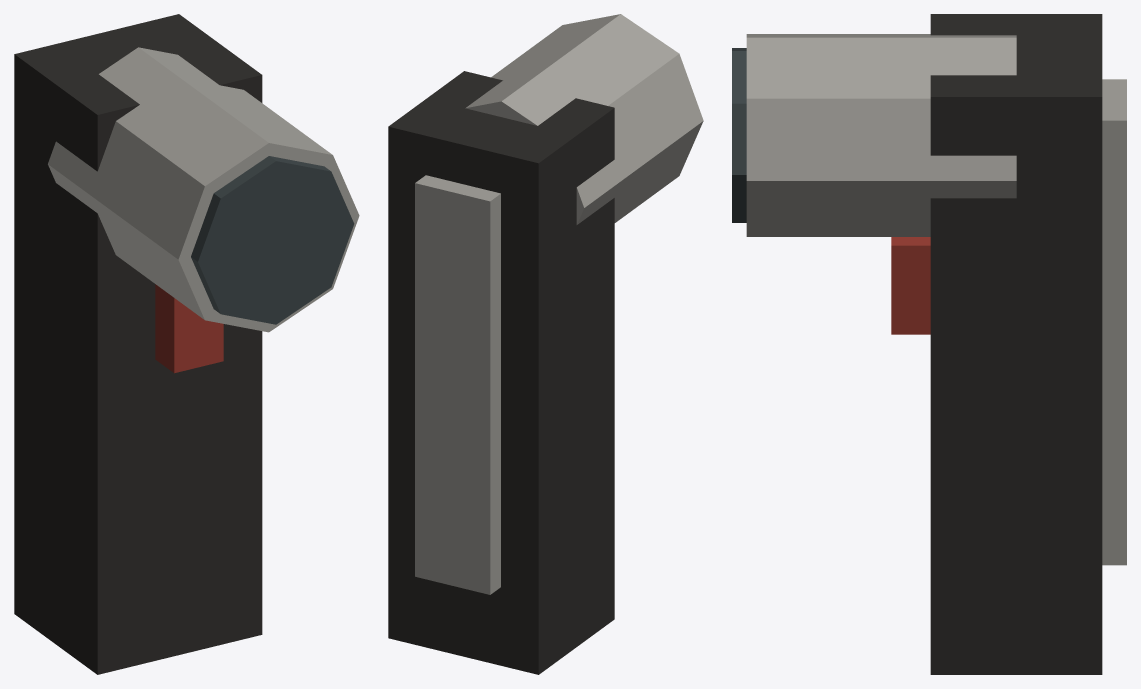
The model's file is chest-flashlight.glb.
3 renders of one model, left to right at view 1: azimuth 30°, elevation 25°; view 2: azimuth 150°, elevation 25°; view 3: azimuth 270°, elevation 25°, orthographic. The views are drawn at different scales.
Visible parts, largest first — view 1: plastic-dark, brushed, glass, accent-warm; view 2: plastic-dark, brushed; view 3: plastic-dark, brushed, accent-warm, glass.
Boxes of the visible parts, bbox=[...] form: plastic-dark: bbox=[14, 14, 262, 674]; brushed: bbox=[48, 47, 359, 332]; glass: bbox=[191, 156, 354, 324]; accent-warm: bbox=[155, 284, 223, 373]; plastic-dark: bbox=[388, 71, 614, 674]; brushed: bbox=[415, 14, 703, 594]; plastic-dark: bbox=[930, 14, 1102, 674]; brushed: bbox=[746, 34, 1126, 565]; accent-warm: bbox=[891, 237, 930, 334]; glass: bbox=[732, 48, 746, 222].
Bounding box in the file's own units: 0.044 × 0.134 × 0.0805.
